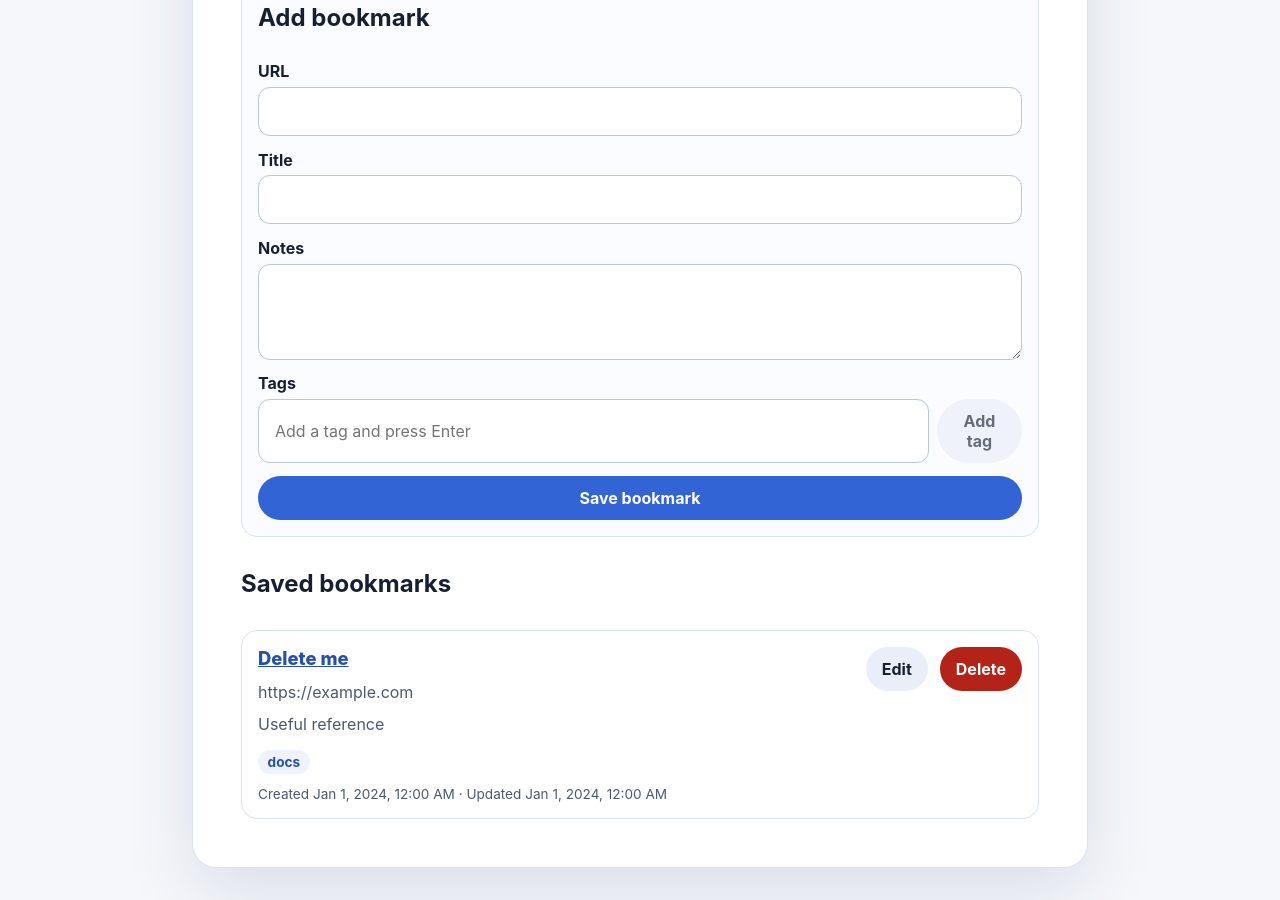
Test: bookmark CRUD UI › deletes a bookmark only after confirmation
The width and height of the screenshot is (1280, 900).
(page scrolled)
Expected: the link "Delete me" is shown, [258, 647, 349, 669]
Click the button "Delete": (981, 669) [940, 647, 1022, 691]
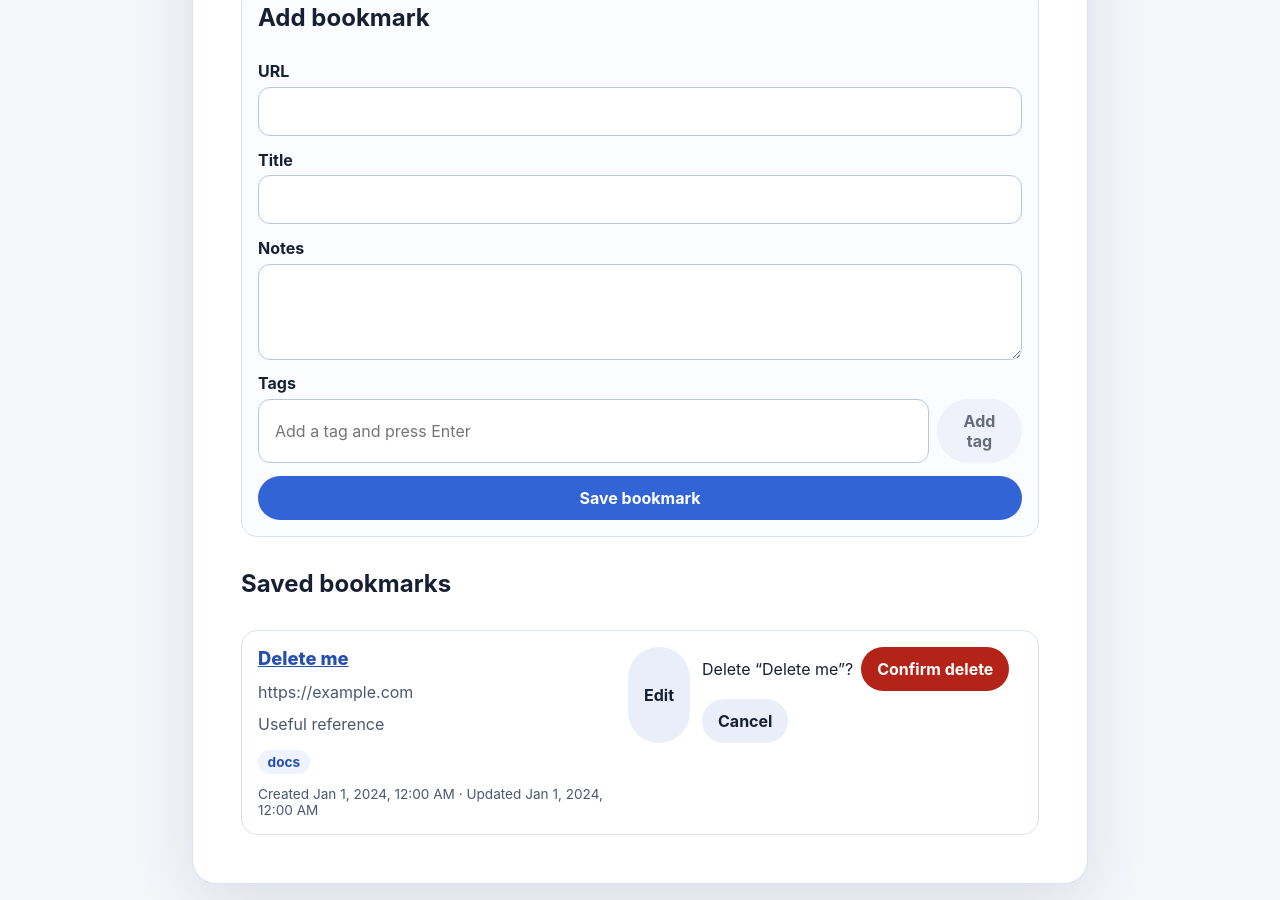
Result: the text "Delete “Delete me”?" is shown at [702, 659, 853, 679]
Click the button "Confirm delete": (935, 669) [861, 647, 1009, 691]
(page scrolled)
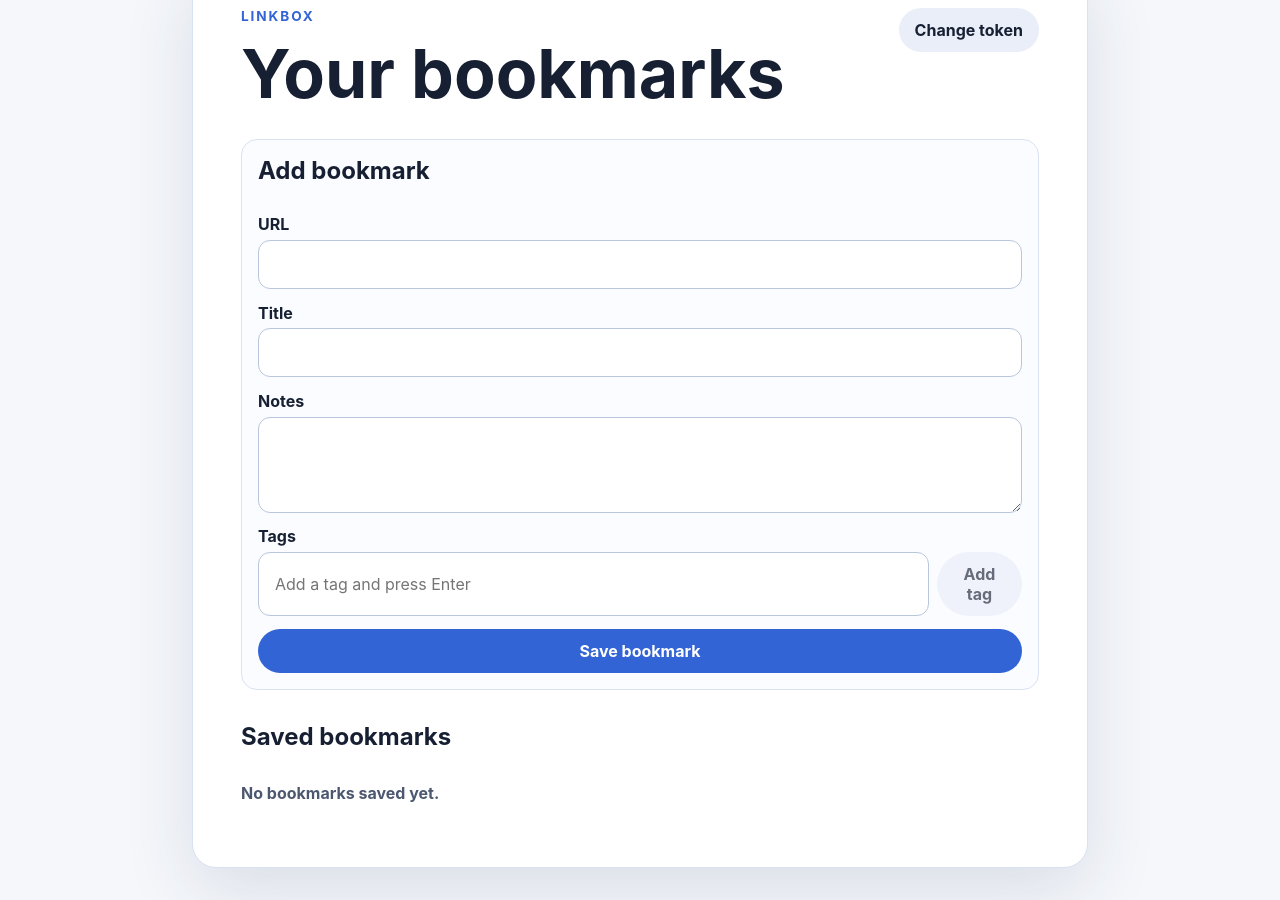
Result: the link "Delete me" is gone
Result: the text "No bookmarks saved yet." is shown at [241, 783, 439, 803]
